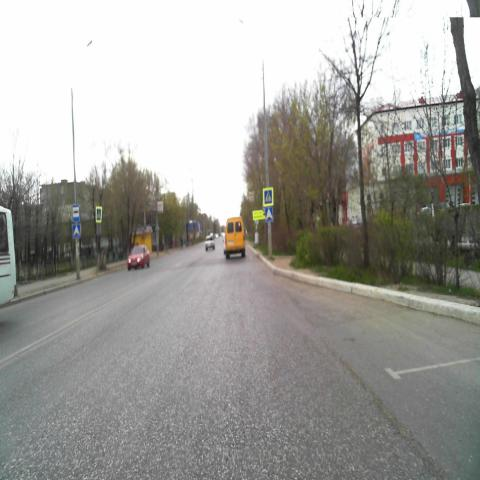5_20: (265, 207, 273, 221)
